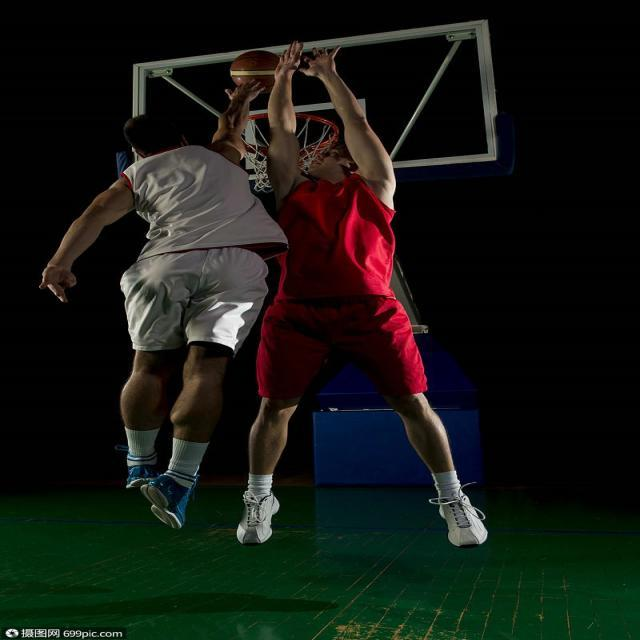rim: (227, 52, 285, 93)
